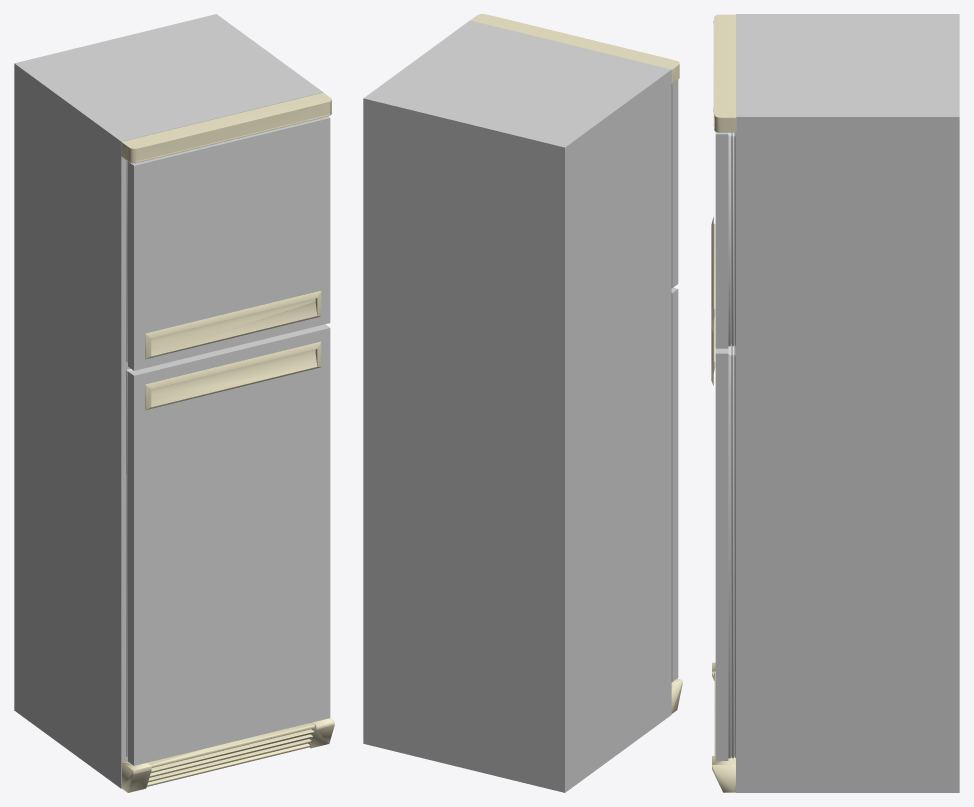
The model's file is Stinol.FBX.
The picture shows the model from 3 angles, left to right: view 1: azimuth 30°, elevation 25°; view 2: azimuth 150°, elevation 25°; view 3: azimuth 270°, elevation 25°; orthographic projection. The views are drawn at different scales.
Parts seen in each view (by area): view 1: Куб, Куб.001, Куб.002, Base_Panel, Lattice, Handle_Refrigerator, Handle_Freezer, Elastic_Doors; view 2: Куб, Куб.001, Base_Panel, Куб.002; view 3: Куб, Куб.001, Elastic_Doors, Куб.002, Base_Panel, Lattice, Handle_Freezer.
Part boxes in pixels (left/top/right/bottom): Куб: left=14, top=14, right=323, bottom=788; Куб.001: left=128, top=324, right=330, bottom=765; Куб.002: left=128, top=116, right=330, bottom=370; Base_Panel: left=121, top=92, right=331, bottom=163; Lattice: left=121, top=718, right=334, bottom=792; Handle_Refrigerator: left=145, top=341, right=321, bottom=410; Handle_Freezer: left=145, top=291, right=321, bottom=359; Elastic_Doors: left=126, top=160, right=132, bottom=757; Куб: left=363, top=20, right=671, bottom=792; Куб.001: left=671, top=287, right=678, bottom=682; Base_Panel: left=470, top=14, right=679, bottom=83; Куб.002: left=671, top=80, right=678, bottom=288; Куб: left=736, top=14, right=959, bottom=792; Куб.001: left=715, top=348, right=728, bottom=760; Elastic_Doors: left=728, top=132, right=735, bottom=758; Куб.002: left=715, top=132, right=728, bottom=348; Base_Panel: left=713, top=14, right=736, bottom=132; Lattice: left=712, top=662, right=735, bottom=792; Handle_Freezer: left=711, top=217, right=715, bottom=332.
Bounding box in the file's own units: 60.25 × 184 × 61.24.
